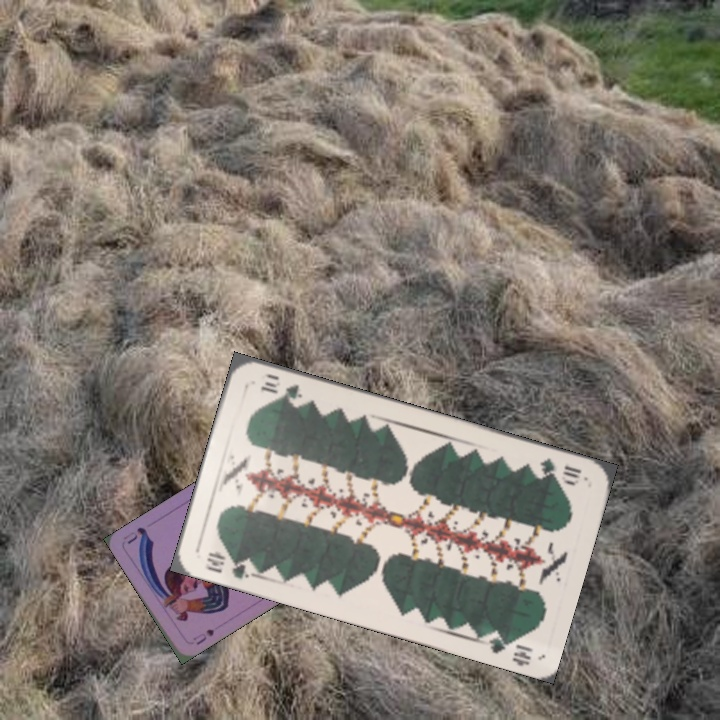G10: (202, 547, 258, 582), (535, 454, 584, 488)
SU: (189, 625, 217, 648)
